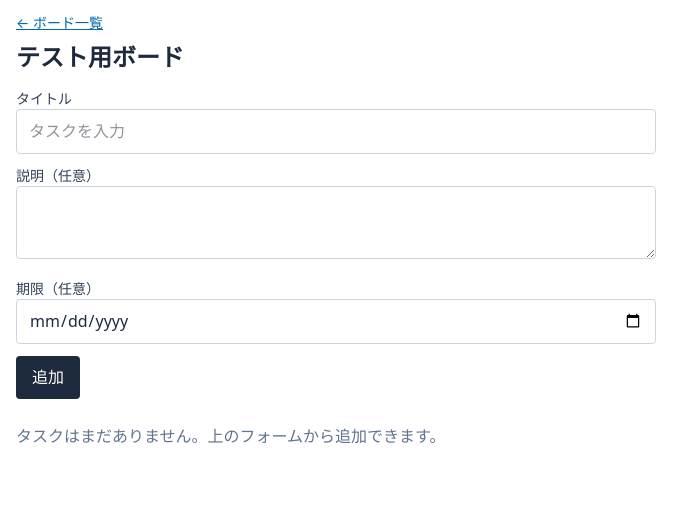
CSRFトークンが届くまで送信させない › 追加に失敗したら画面に出す（console.error で握りつぶさない）
The image size is (673, 516).
Expected: the button "追加" is shown, [16,356,80,399]
Type "失敗する追加" into the field with placeholder "タスクを入力" at (336, 132), box [16,109,656,154]
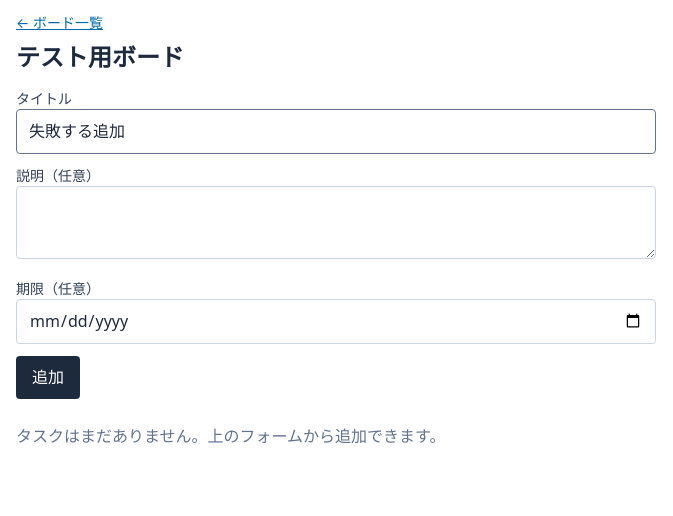
Click the button "追加" at (48, 378), box [16,356,80,399]
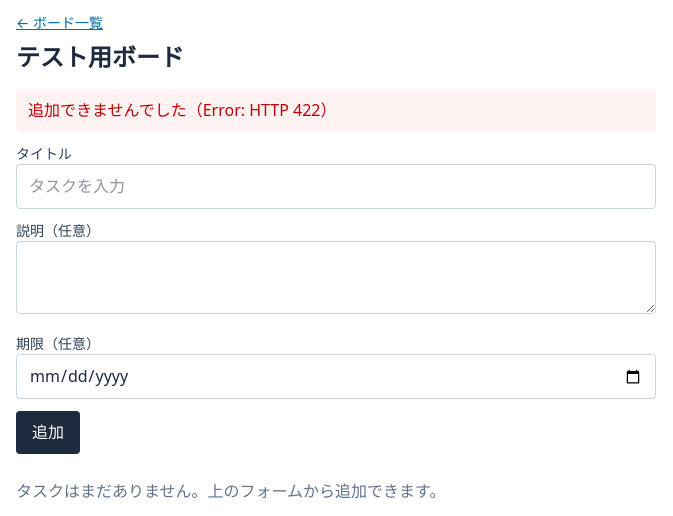
Result: the text "追加できませんでした（Error: HTTP 422）" is shown at [16,89,656,132]
